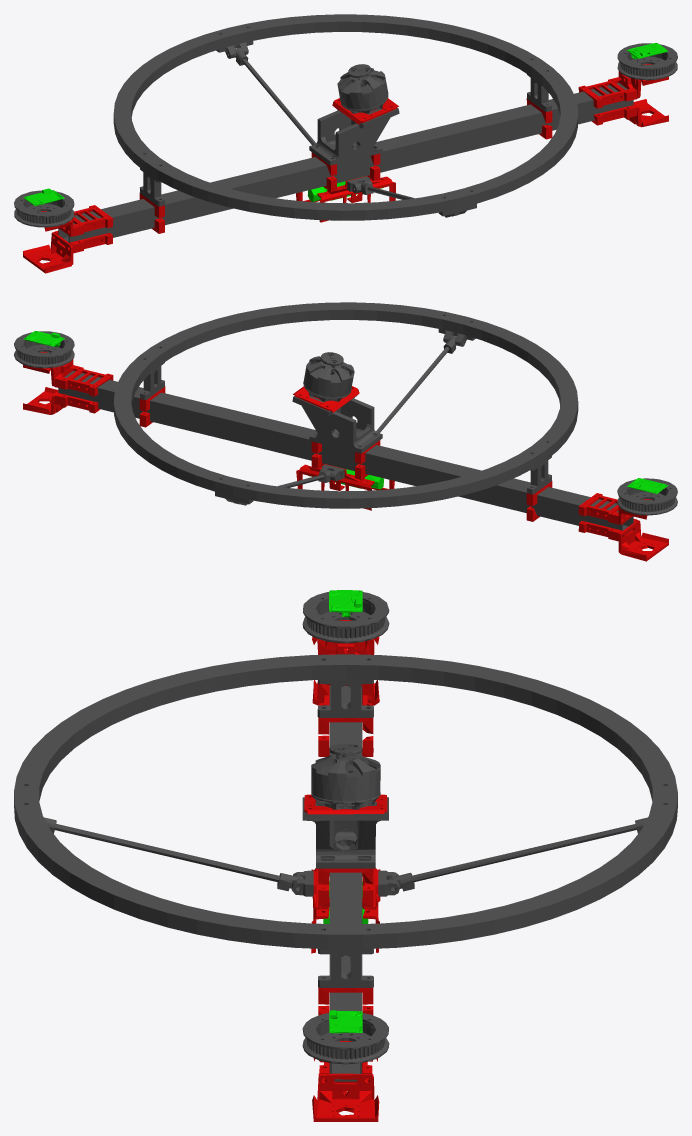
Rendered from tilt_10deg_15inch_link2.dae.
3 views of the same model, one above another, from view 1: azimuth 30°, elevation 25°; view 2: azimuth 150°, elevation 25°; view 3: azimuth 270°, elevation 25° (orthographic). The views are drawn at different scales.
Visible parts, largest first — view 1: link2_tilt_15inch_black, link2_tilt_15inch_red, link2_green_part; view 2: link2_tilt_15inch_black, link2_tilt_15inch_red, link2_green_part; view 3: link2_tilt_15inch_black, link2_tilt_15inch_red, link2_green_part.
Part boxes in pixels (x1=…): link2_tilt_15inch_black: x1=14, y1=14, x2=677, y2=244; link2_tilt_15inch_red: x1=23, y1=64, x2=668, y2=273; link2_green_part: x1=23, y1=43, x2=668, y2=205; link2_tilt_15inch_black: x1=14, y1=302, x2=677, y2=532; link2_tilt_15inch_red: x1=23, y1=352, x2=668, y2=561; link2_green_part: x1=23, y1=331, x2=668, y2=493; link2_tilt_15inch_black: x1=14, y1=591, x2=677, y2=1081; link2_tilt_15inch_red: x1=304, y1=620, x2=387, y2=1121; link2_green_part: x1=323, y1=590, x2=368, y2=1033.
Size of the model in its own units: 0.6522 by 0.4 by 0.1271.
